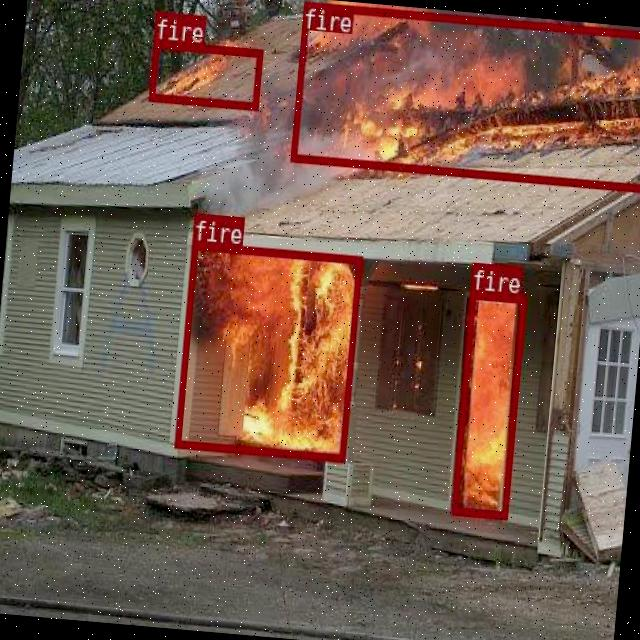fire: (290, 0, 640, 190), (174, 241, 362, 461), (450, 290, 525, 518), (146, 38, 262, 108)
